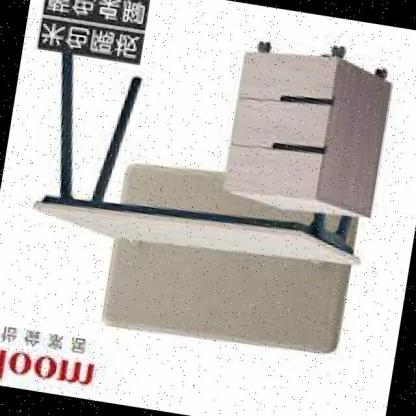Table: (22, 121, 384, 297)
